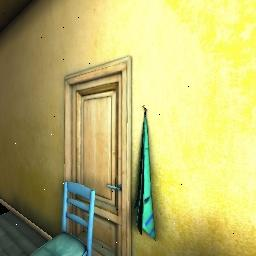chair: (23, 178, 102, 256)
door: (57, 53, 143, 256)
